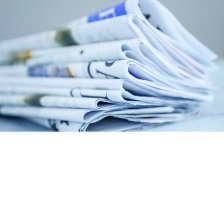news_paper: (0, 0, 220, 133)
